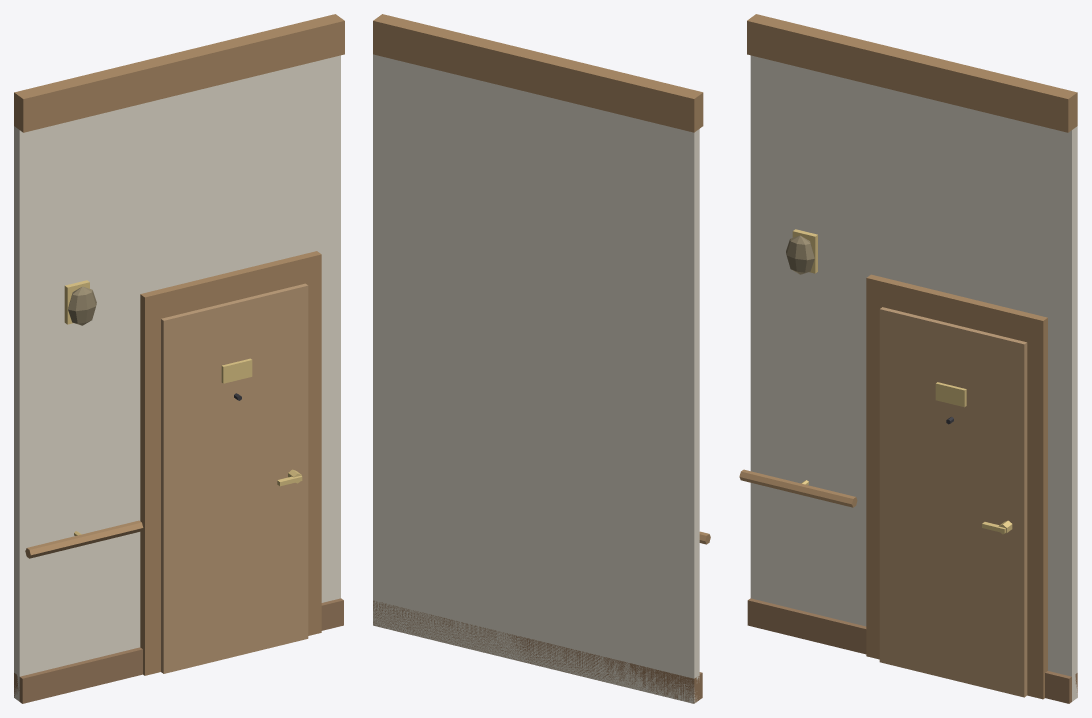
The model's file is CR_PuertaCamarote_A.fbx.
3 views of the same model, side by side, from view 1: azimuth 30°, elevation 25°; view 2: azimuth 150°, elevation 25°; view 3: azimuth 330°, elevation 25° (orthographic).
Visible parts, largest first — view 1: CR_PuertaCamarote_A; view 2: CR_PuertaCamarote_A; view 3: CR_PuertaCamarote_A.
Boxes of the visible parts, left/top/right/bottom form: CR_PuertaCamarote_A: left=14, top=14, right=344, bottom=703; CR_PuertaCamarote_A: left=373, top=14, right=710, bottom=703; CR_PuertaCamarote_A: left=739, top=14, right=1077, bottom=703.
Bounding box in the file's own units: 2 × 3.6 × 0.215.
